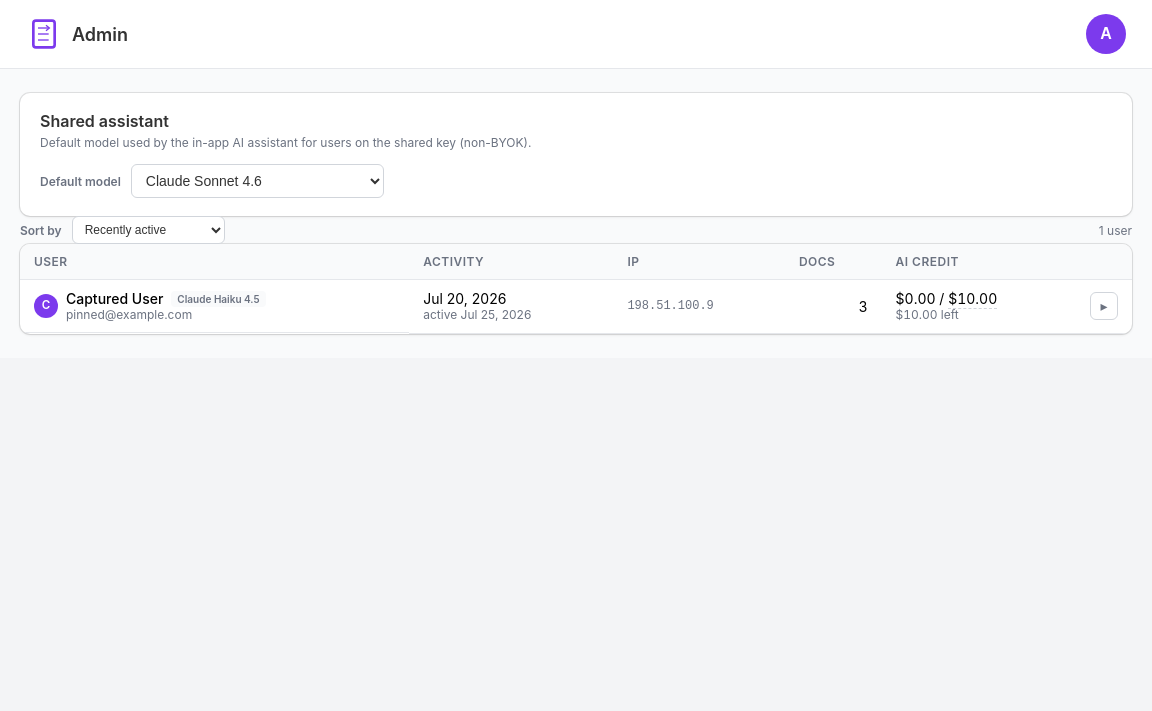
Scenario: AdminPage — per-user chat model override (feature 035) › shows the pinned model as the selected option
Click the button named "Expand details".
click(1104, 306)  # box [1090,292,1118,320]
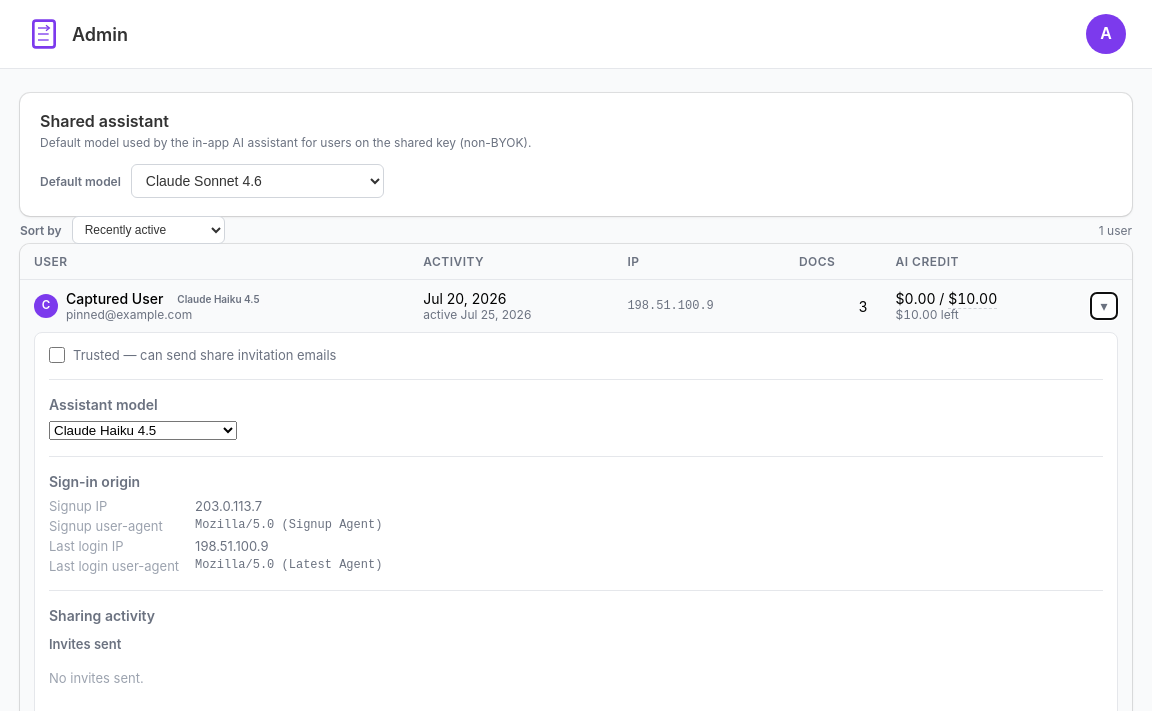
Expected: the 3rd dropdown shows "Claude Haiku 4.5", [49,421,237,440]
